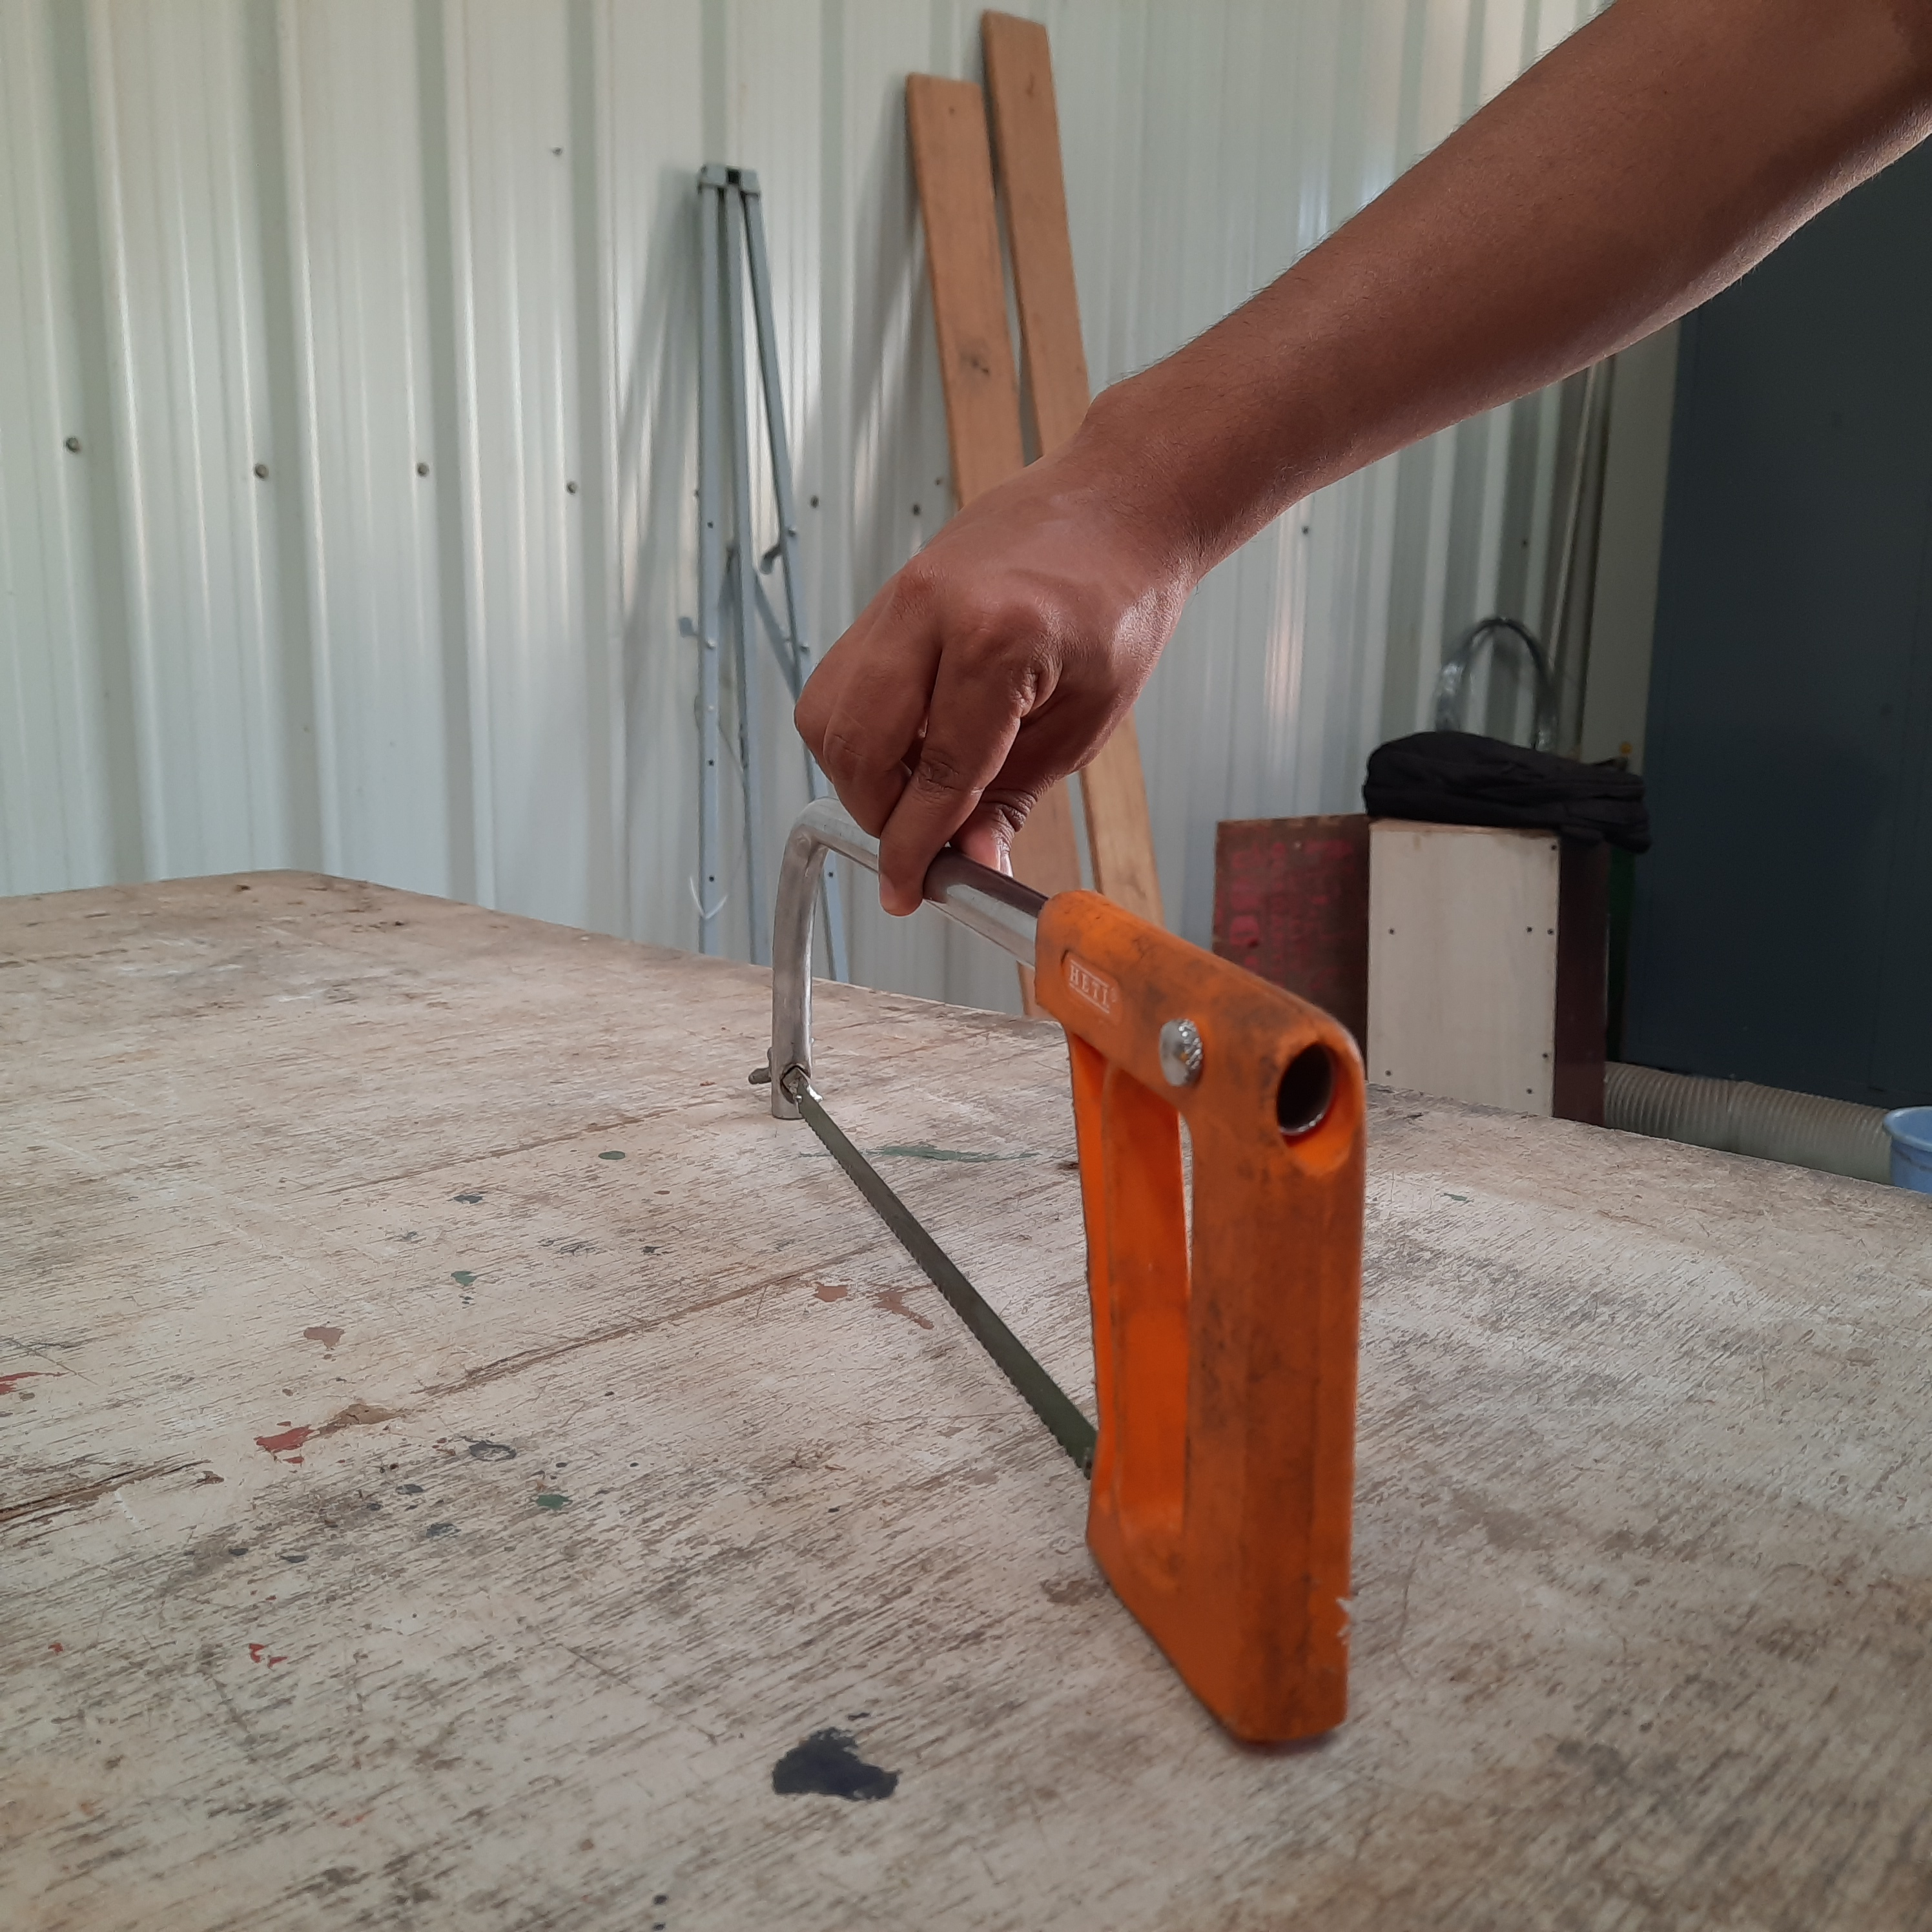Hexaframe: (722, 761, 1408, 1785)
